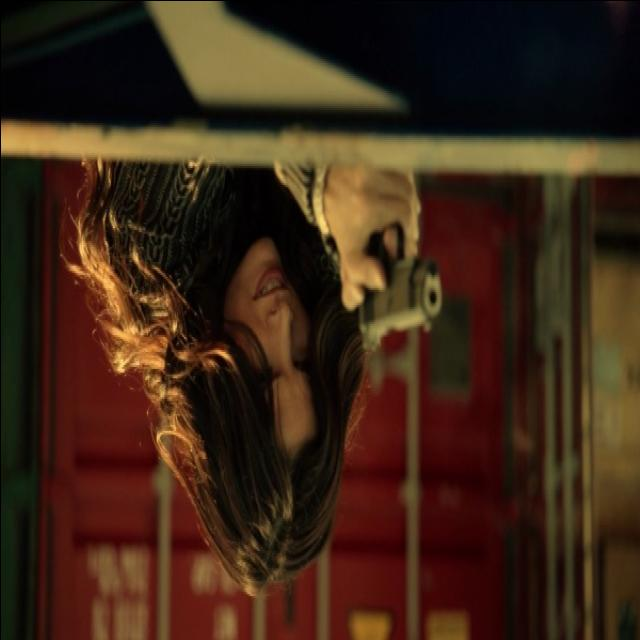weapons: (318, 180, 449, 370)
